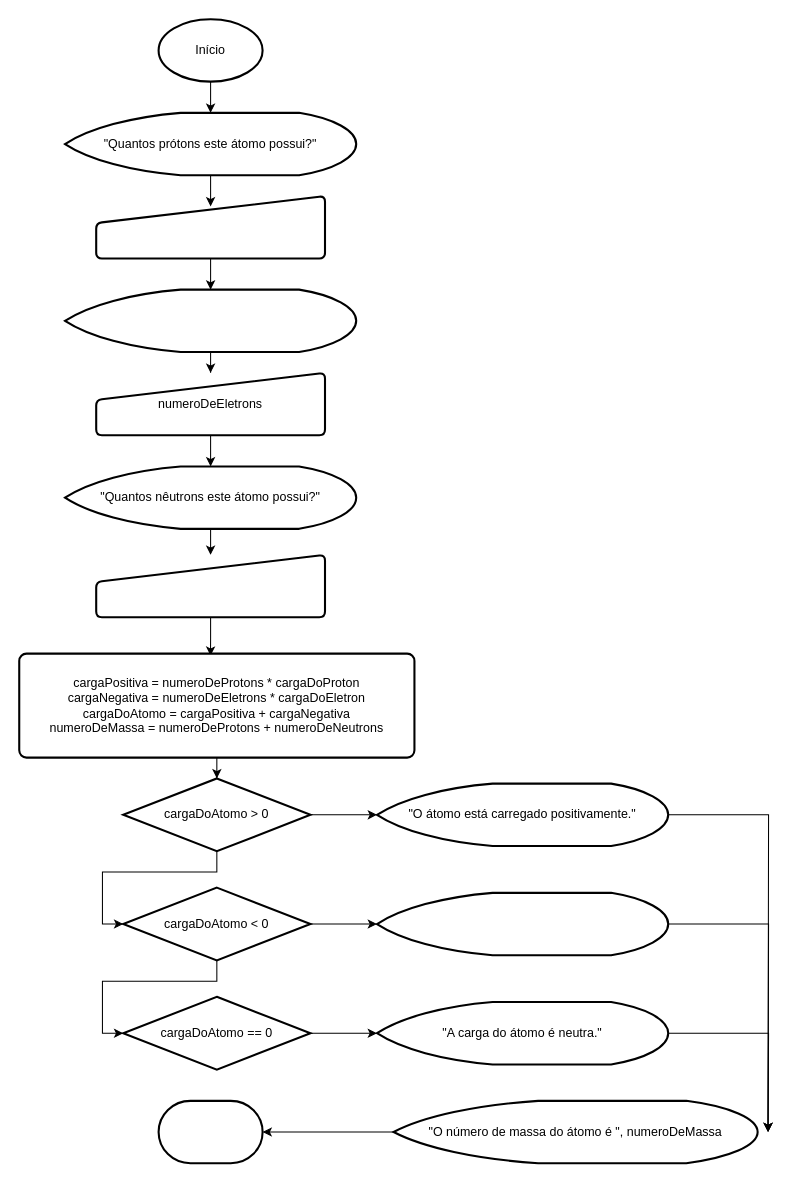
Some shapes in this 795 by 1181 pixel diagram are drawn without their labels. Here are the shapes that lost their labels. From the top down, the box of each, then its label:
(95, 194, 326, 259): numeroDeProtons
(63, 288, 357, 353): "Quantos elétrons este átomo possui?"
(95, 553, 326, 618): numeroDeNeutrons
(375, 891, 669, 956): " O átomo está carregado negativamente."
(157, 1099, 263, 1164): fim
